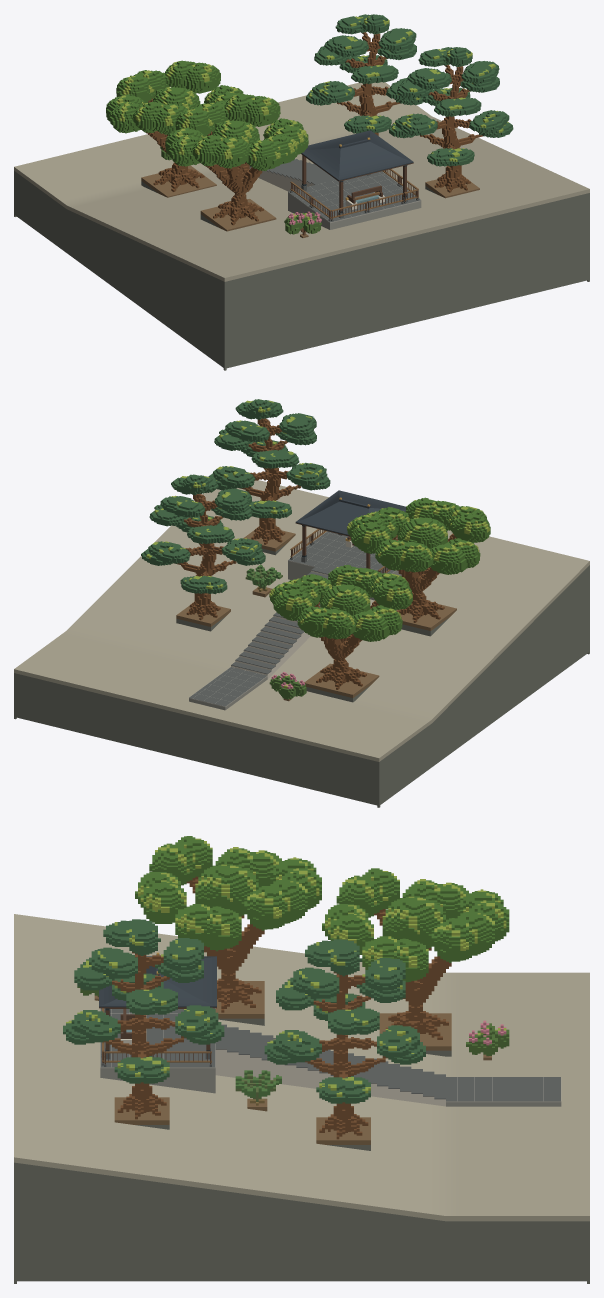
3 renders of one model, top to bottom at view 1: azimuth 30°, elevation 25°; view 2: azimuth 150°, elevation 25°; view 3: azimuth 270°, elevation 25°, orthographic. The views are drawn at different scales.
Parts seen in each view (by area): view 1: 连续岩土实体与最小原生岩块, 阔叶分枝与开阔树冠母版 (×2), 松类体素分枝树母版 (×2), 分层实心台基与独立石铺面, 连续飞檐与梁椽, 贴地独立根域与表土 (×3), 实体山步与独立踏面, 分枝灌木与花灌木母版, 公共长椅与石凳母版; view 2: 连续岩土实体与最小原生岩块, 阔叶分枝与开阔树冠母版 (×2), 松类体素分枝树母版 (×2), 分层实心台基与独立石铺面 (×2), 贴地独立根域与表土 (×3), 实体山步与独立踏面, 连续飞檐与梁椽, 分枝灌木与花灌木母版, 蕨类与阔叶地被簇母版; view 3: 连续岩土实体与最小原生岩块, 阔叶分枝与开阔树冠母版 (×2), 松类体素分枝树母版 (×2), 分层实心台基与独立石铺面 (×2), 实体山步与独立踏面, 贴地独立根域与表土 (×4), 连续飞檐与梁椽, 分枝灌木与花灌木母版, 蕨类与阔叶地被簇母版.
Boxes of the visible parts, x1,y1,x2,y2 form: 连续岩土实体与最小原生岩块: (14,82,589,370); 阔叶分枝与开阔树冠母版 (×2): (106,60,308,225); 松类体素分枝树母版 (×2): (306,14,513,192); 分层实心台基与独立石铺面: (288,171,421,229); 连续飞檐与梁椽: (301,130,413,181); 贴地独立根域与表土 (×3): (141,165,479,231); 实体山步与独立踏面: (249,159,335,191); 分枝灌木与花灌木母版: (284,211,321,235); 公共长椅与石凳母版: (345,185,384,209); 连续岩土实体与最小原生岩块: (14,480,589,807); 阔叶分枝与开阔树冠母版 (×2): (269,497,490,689); 松类体素分枝树母版 (×2): (141,399,330,620); 分层实心台基与独立石铺面 (×2): (189,531,401,710); 贴地独立根域与表土 (×3): (176,604,456,702); 实体山步与独立踏面: (231,567,331,678); 连续飞檐与梁椽: (295,490,405,536); 分枝灌木与花灌木母版: (269,672,306,699); 蕨类与阔叶地被簇母版: (245,564,282,591); 连续岩土实体与最小原生岩块: (14,914,589,1283); 阔叶分枝与开阔树冠母版 (×2): (135,836,509,1039); 松类体素分枝树母版 (×2): (63,919,425,1139); 分层实心台基与独立石铺面 (×2): (100,1008,561,1106); 实体山步与独立踏面: (215,1024,445,1106); 贴地独立根域与表土 (×4): (114,981,451,1150); 连续飞檐与梁椽: (99,952,216,1008); 分枝灌木与花灌木母版: (466,1020,509,1056); 蕨类与阔叶地被簇母版: (235,1070,281,1105).
Size of the model in its own units: 40 by 22.8 by 40.
25 materials, 25 textured.
